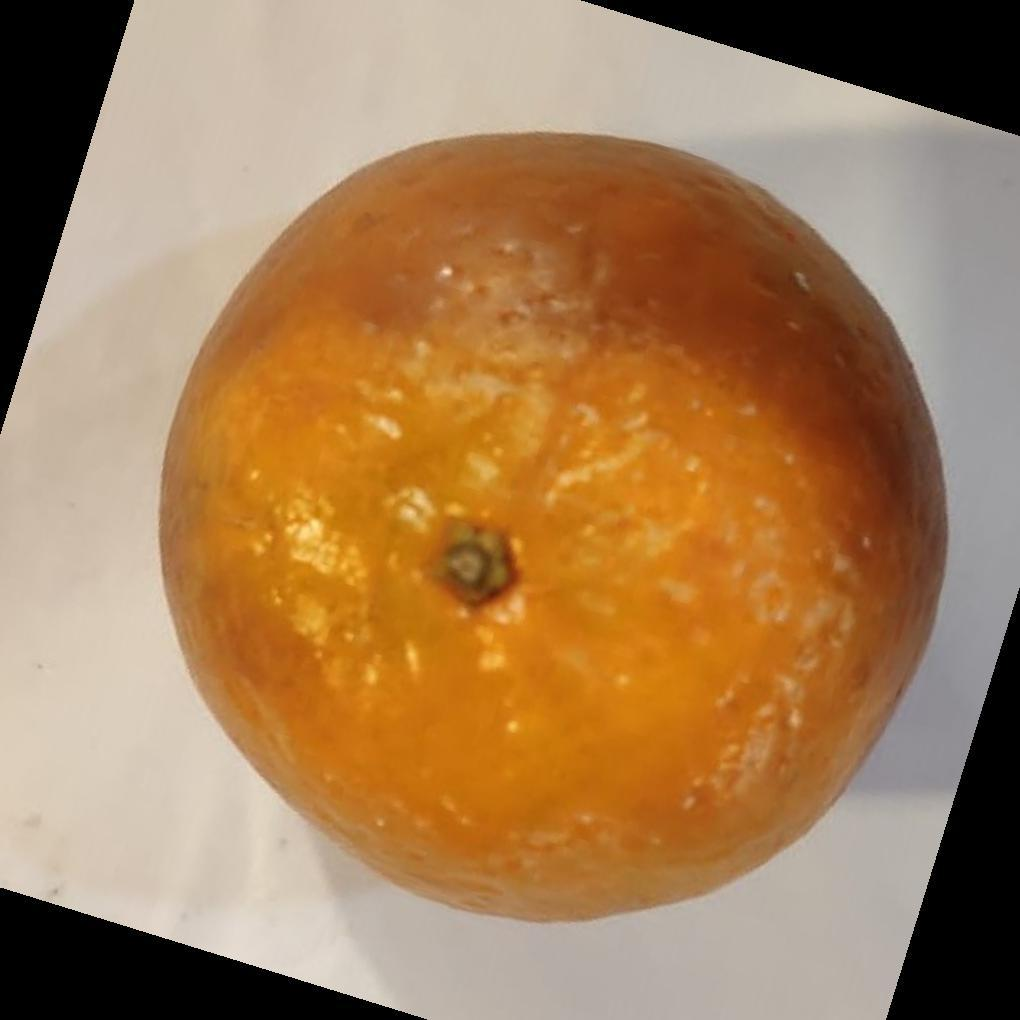FreshOrange: (155, 133, 950, 929)
